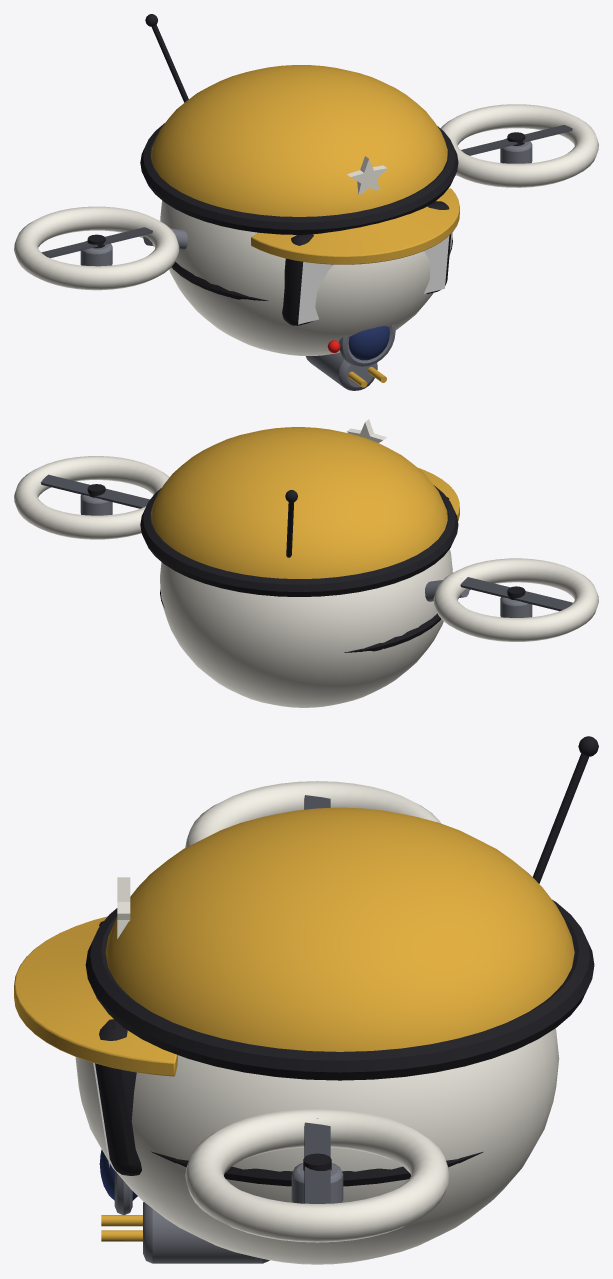
Rendered from mall-cop-drone.fbx.
3 renders of one model, top to bottom at view 1: azimuth 30°, elevation 25°; view 2: azimuth 150°, elevation 25°; view 3: azimuth 270°, elevation 25°, orthographic. The views are drawn at different scales.
Visible parts, largest first — view 1: Plate_shell, Chassis, DuctR, DuctL, Plate_lens-guard, CapBand, Face, Bezel, TaserPod, CamLens, RotorR, RotorL (+6 smaller); view 2: Plate_shell, Chassis, DuctR, CapBand, DuctL, RotorR, RotorL, Waist, MotorL, MotorR, Plate_lens-guard; view 3: Plate_shell, Chassis, DuctL, CapBand, Plate_lens-guard, DuctR, Bezel, TaserPod, Waist, RotorL, Antenna, MotorL (+1 smaller).
Part boxes in pixels (x1,y1,x2,y2): Plate_shell: [151, 65, 447, 216]; Chassis: [160, 200, 452, 355]; DuctR: [14, 206, 179, 290]; DuctL: [440, 104, 598, 187]; Plate_lens-guard: [251, 188, 459, 264]; CapBand: [140, 123, 458, 234]; Face: [298, 236, 449, 324]; Bezel: [282, 201, 451, 325]; TaserPod: [305, 352, 377, 390]; CamLens: [348, 326, 389, 360]; RotorR: [41, 227, 152, 258]; RotorL: [461, 125, 572, 155]; Plate_shell: [151, 427, 447, 578]; Chassis: [160, 549, 452, 707]; DuctR: [433, 558, 598, 641]; CapBand: [140, 485, 458, 596]; DuctL: [14, 456, 169, 539]; RotorR: [460, 577, 572, 611]; RotorL: [40, 474, 149, 508]; Waist: [160, 589, 440, 652]; MotorL: [80, 494, 112, 515]; MotorR: [500, 597, 532, 617]; Plate_lens-guard: [418, 468, 459, 521]; Plate_shell: [105, 807, 574, 1051]; Chassis: [75, 1028, 559, 1264]; DuctL: [185, 1108, 449, 1242]; CapBand: [85, 899, 594, 1080]; Plate_lens-guard: [14, 916, 178, 1076]; DuctR: [185, 781, 440, 847]; Bezel: [95, 921, 141, 1175]; TaserPod: [143, 1202, 269, 1263]; Waist: [151, 1151, 483, 1186]; RotorL: [303, 1122, 331, 1203]; Antenna: [533, 753, 588, 883]; MotorL: [291, 1163, 343, 1203].
Size of the model in its own units: 1.61 by 0.801 by 0.906.
